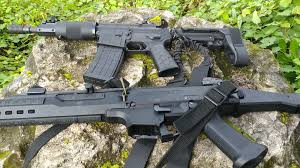gun: (0, 77, 298, 167), (4, 16, 250, 86)
